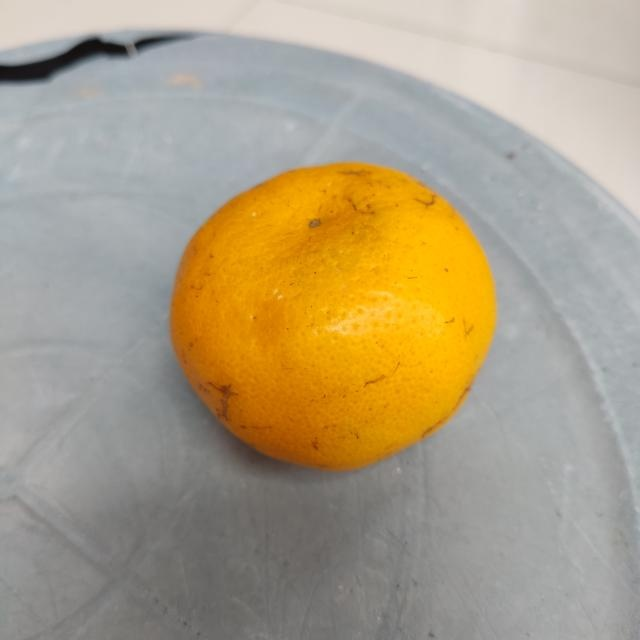agrume: (164, 161, 500, 474)
